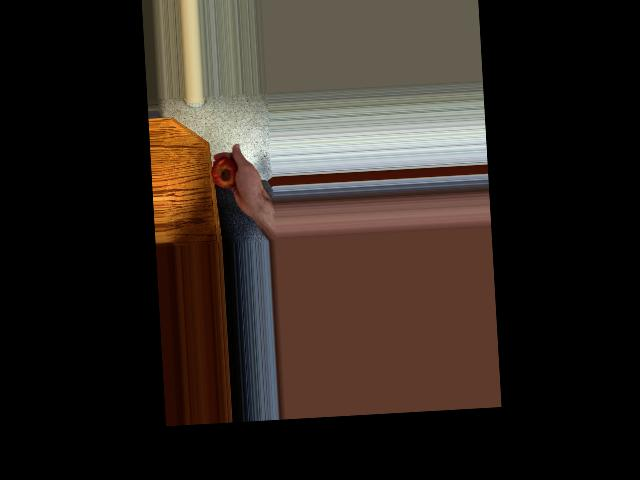apple: (209, 154, 242, 191)
